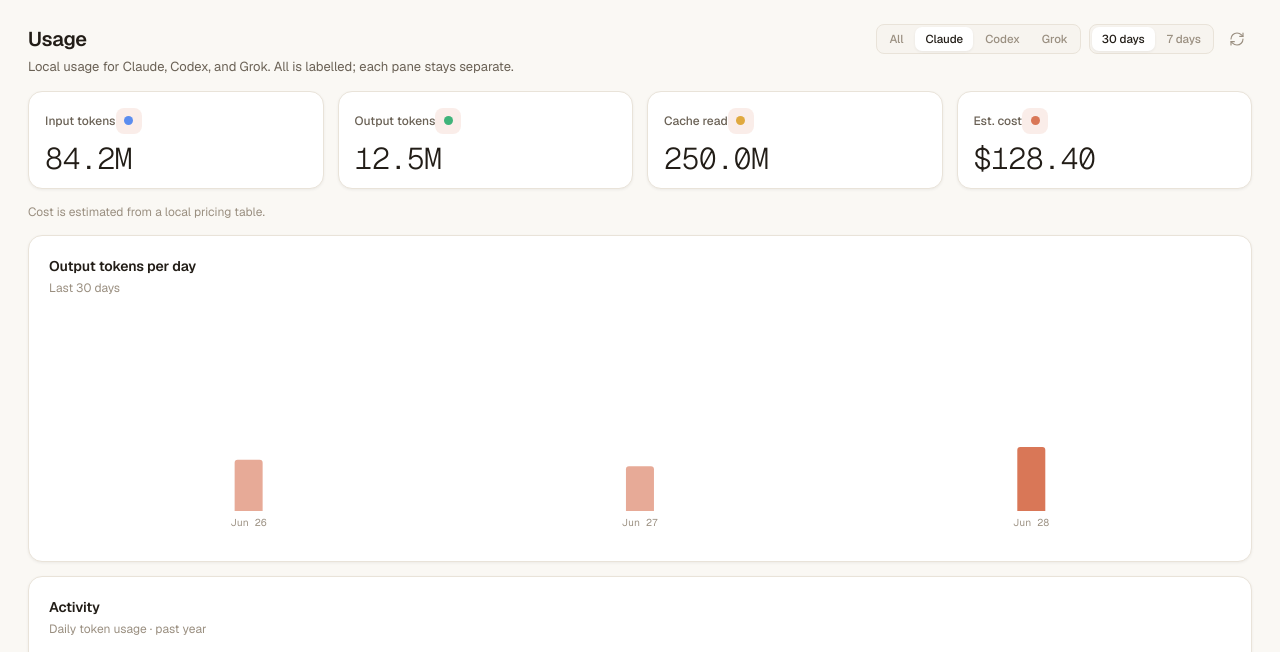
Test case: UsageScreen › labels Grok credits stale when ageMinutes is over 45
Expected: the text "Input tokens" is shown, x1=45 y1=114 x2=116 y2=126
Click the radio button labelled "Grok" at (1055, 39), box x1=1032 y1=27 x2=1078 y2=51
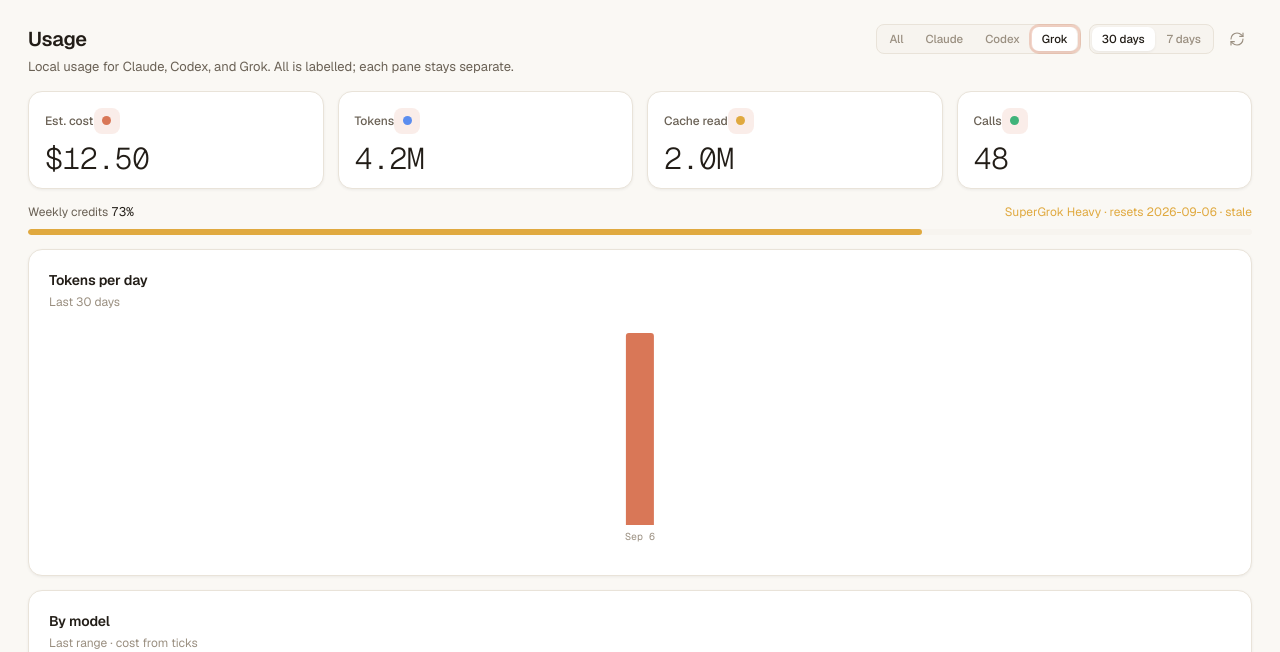
Expected: the text "SuperGrok Heavy · resets 2026-09-06 · stale" is shown, x1=1005 y1=202 x2=1252 y2=220
Expected: the text "73%" is shown, x1=111 y1=202 x2=134 y2=220
